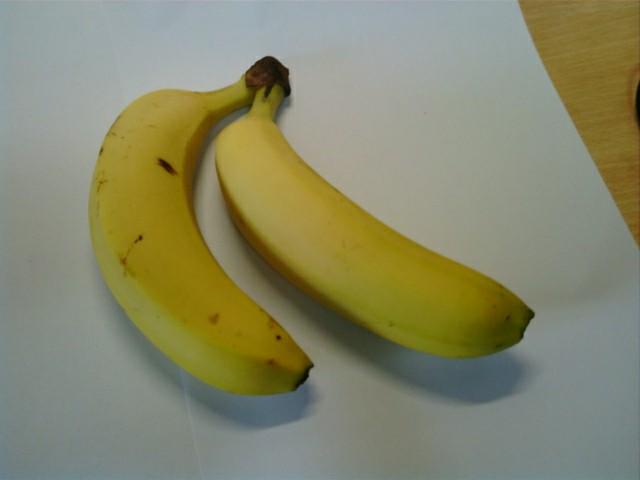fresh_banana: (215, 117, 532, 352)
normal_banana: (90, 87, 312, 392)
